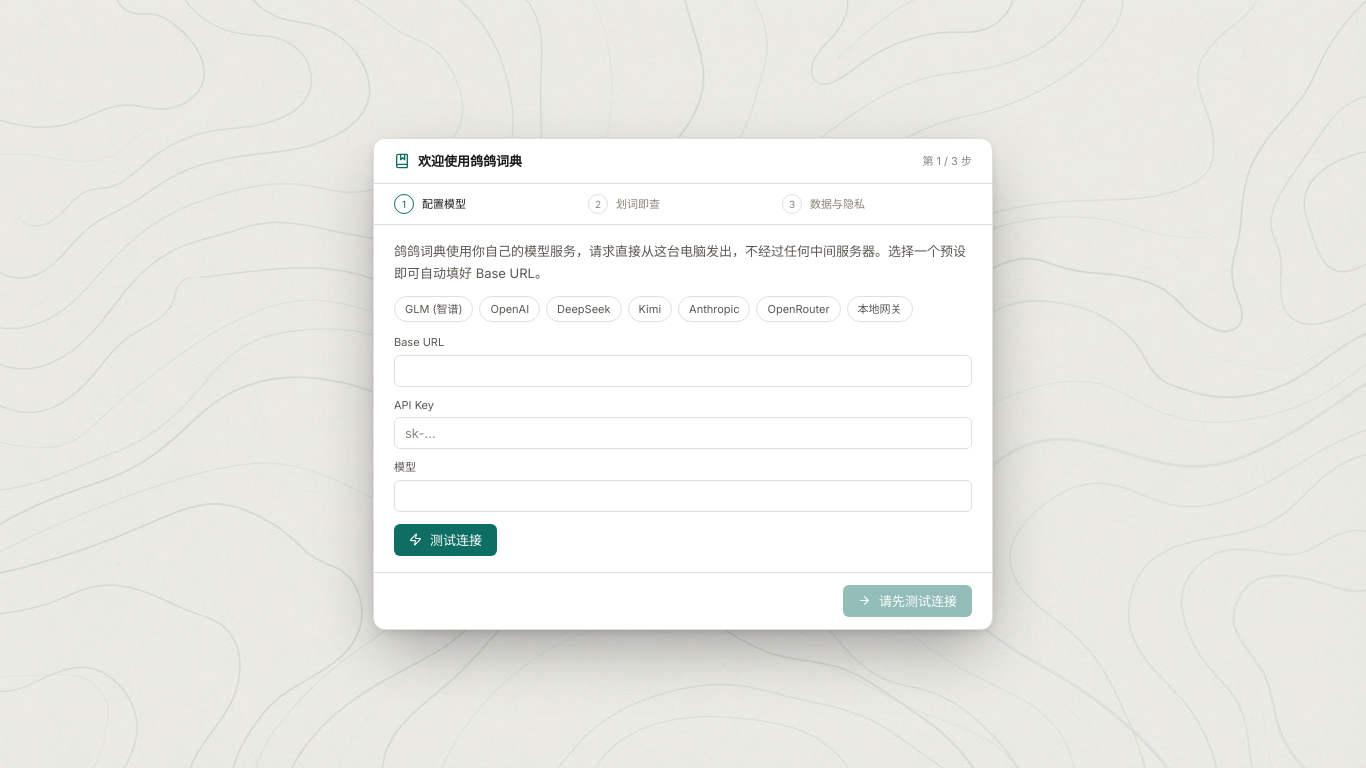
Scenario: onboarding connection test › forgets a passed test as soon as the key is edited
Click the button "测试连接" at {"x": 446, "y": 540}, box [394,524,497,556]
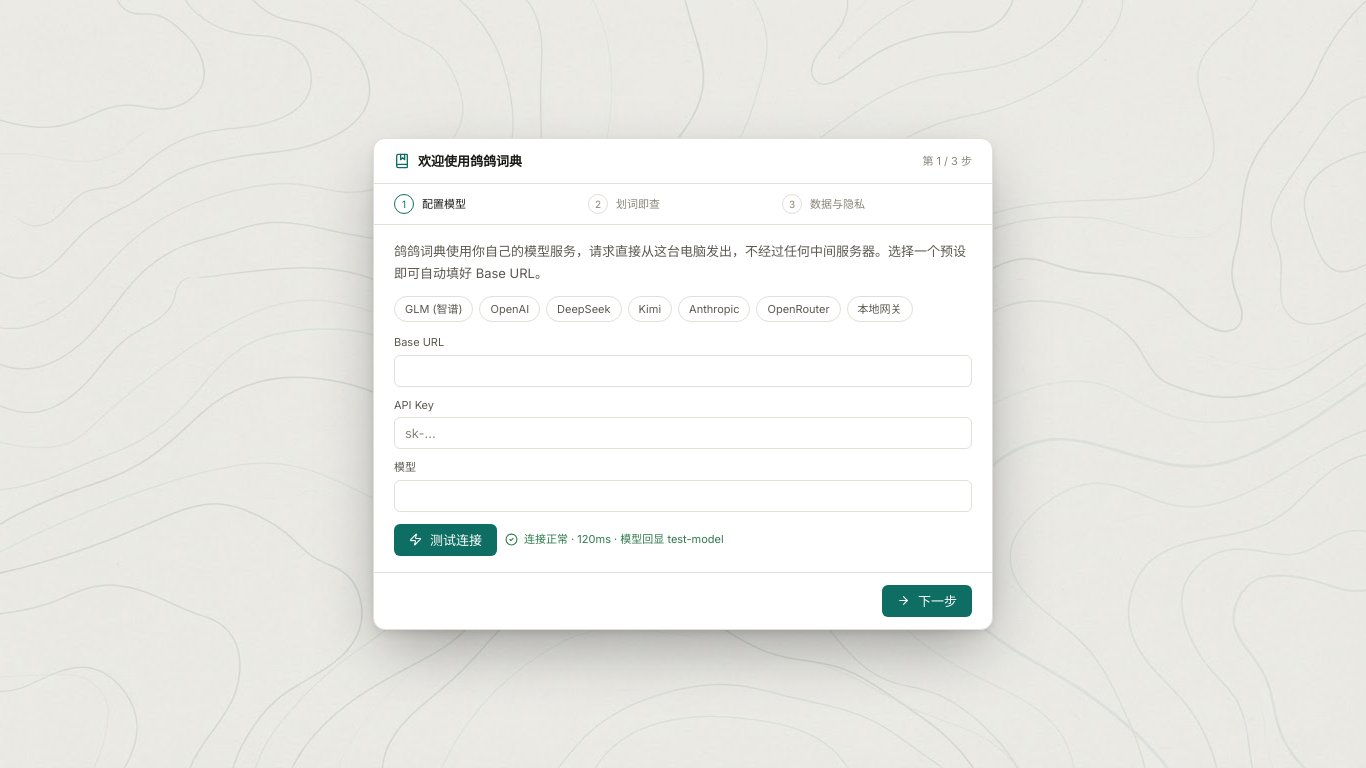
Expected: the text "连接正常 · 120ms · 模型回显 test-model" is shown, [505,531,724,548]
Type "x" into the password field with placeholder "sk-…" at {"x": 683, "y": 433}, box [405,423,961,443]
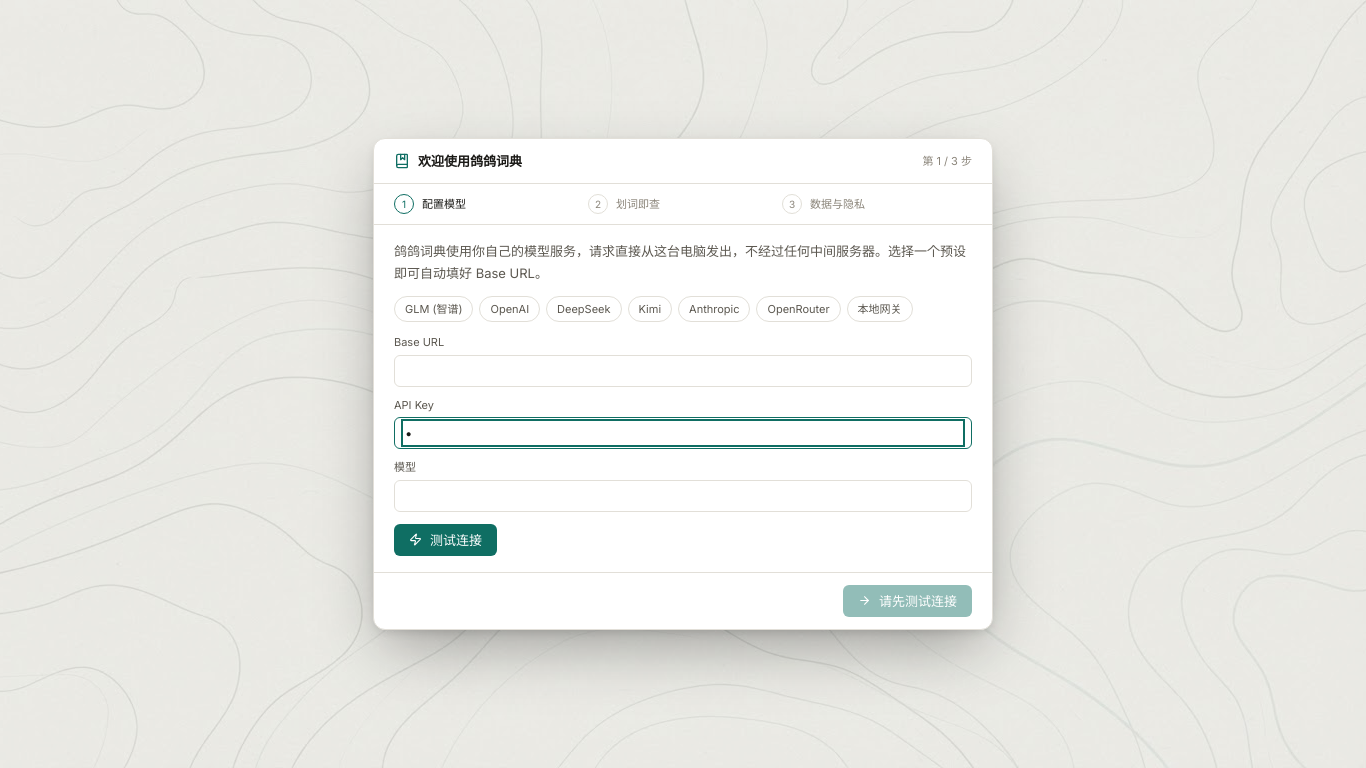
Expected: the text "连接正常" is gone
Expected: the button "请先测试连接" is disabled, [843,585,972,617]
